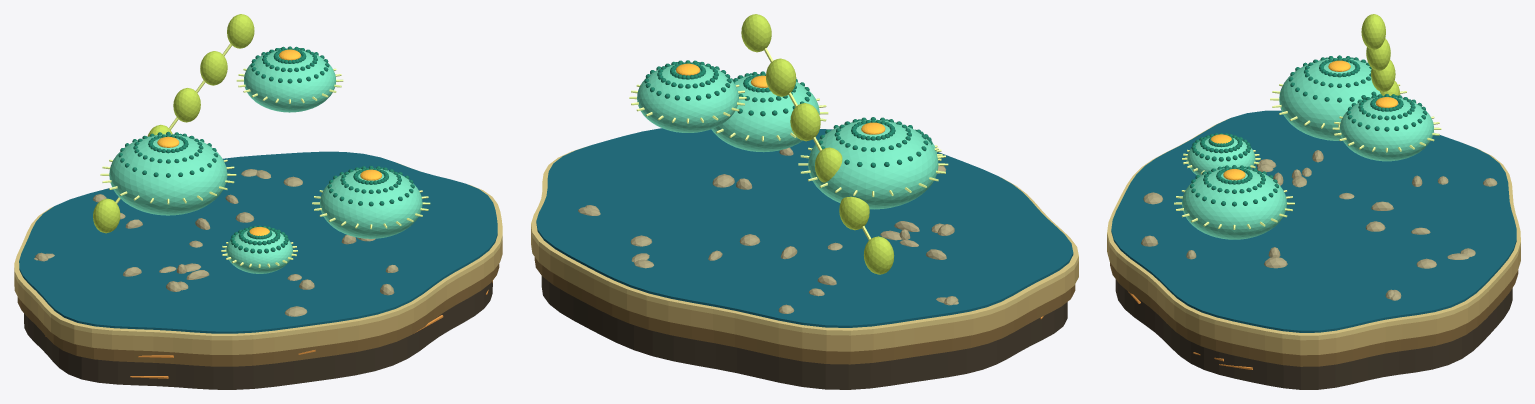
File: plankton.glb
3 renders of one model, left to right at view 1: azimuth 30°, elevation 25°; view 2: azimuth 150°, elevation 25°; view 3: azimuth 270°, elevation 25°, orthographic. The views are drawn at different scales.
Parts seen in each view (by area): view 1: plankton habitat; view 2: plankton habitat; view 3: plankton habitat.
Boxes of the visible parts, x1=… form: plankton habitat: x1=14, y1=14, x2=502, y2=389; plankton habitat: x1=531, y1=14, x2=1078, y2=389; plankton habitat: x1=1107, y1=14, x2=1520, y2=389.
Size of the model in its own units: 1.8 by 1.02 by 1.4.
1 material, 1 textured.
